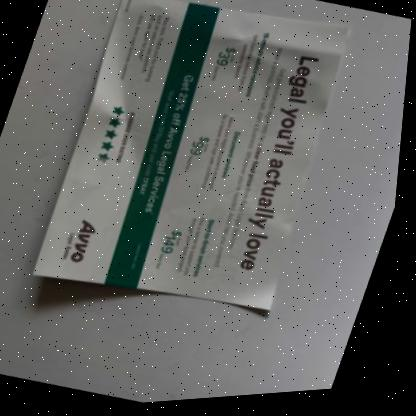Paper: (38, 0, 350, 314)
